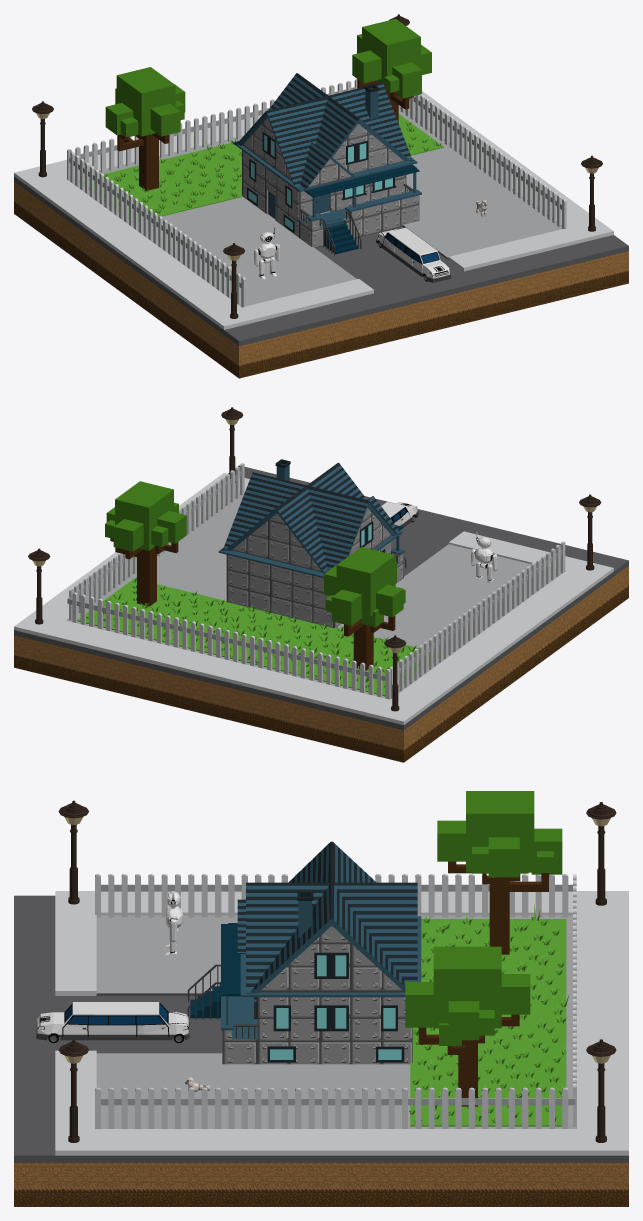
3 renders of one model, top to bottom at view 1: azimuth 30°, elevation 25°; view 2: azimuth 150°, elevation 25°; view 3: azimuth 270°, elevation 25°, orthographic. The views are drawn at different scales.
Visible parts, largest first — view 1: Cube.004, Cube.078, VEHICLES_LIMOUSINE, OBJRANDOM_PLATZEEBOT; view 2: Cube.004, Cube.078, OBJRANDOM_PLATZEEBOT, VEHICLES_LIMOUSINE; view 3: Cube.004, Cube.078, VEHICLES_LIMOUSINE, OBJRANDOM_PLATZEEBOT.
Boxes of the visible parts, bbox=[...] form: Cube.004: bbox=[14, 14, 628, 378]; Cube.078: bbox=[233, 73, 421, 255]; VEHICLES_LIMOUSINE: bbox=[375, 227, 451, 282]; OBJRANDOM_PLATZEEBOT: bbox=[254, 227, 280, 279]; Cube.004: bbox=[14, 407, 628, 762]; Cube.078: bbox=[218, 459, 406, 627]; OBJRANDOM_PLATZEEBOT: bbox=[471, 532, 497, 582]; VEHICLES_LIMOUSINE: bbox=[381, 502, 418, 527]; Cube.004: bbox=[14, 791, 628, 1206]; Cube.078: bbox=[187, 841, 421, 1064]; VEHICLES_LIMOUSINE: bbox=[36, 1002, 189, 1043]; OBJRANDOM_PLATZEEBOT: bbox=[164, 891, 183, 955].
Bounding box in the file's own units: 4000 × 1600 × 4000.
32 materials, 5 textured.
